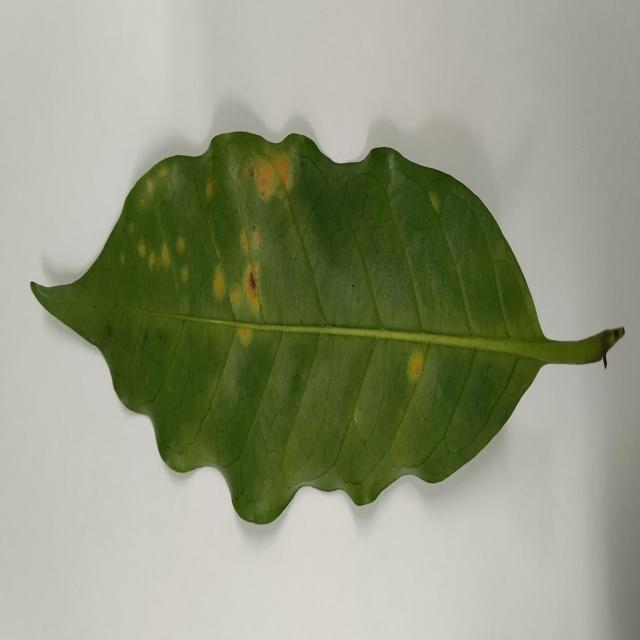rust: (243, 136, 299, 201), (238, 262, 263, 317), (158, 239, 173, 283), (407, 348, 424, 382), (240, 228, 262, 254), (212, 264, 227, 302), (236, 328, 258, 349), (204, 168, 215, 206), (137, 232, 151, 258), (175, 231, 185, 254)
